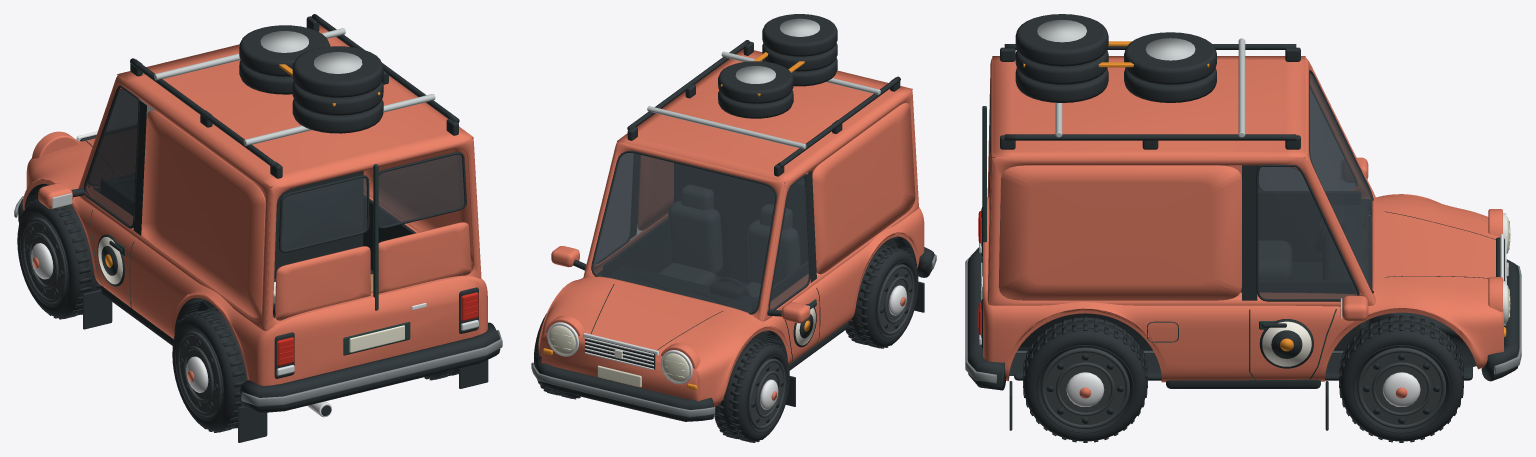
File: pitparts.fbx
The picture shows the model from 3 angles, left to right: view 1: azimuth 30°, elevation 25°; view 2: azimuth 150°, elevation 25°; view 3: azimuth 270°, elevation 25°; orthographic projection. The views are drawn at different scales.
Visible parts, largest first — view 1: Body, Wheel_FL_Mesh, Wheel_RL_Mesh; view 2: Body, Wheel_FL_Mesh, Wheel_RL_Mesh; view 3: Body, Wheel_FR_Mesh, Wheel_RR_Mesh.
Boxes of the visible parts, left/top/right/bottom form: Body: left=14, top=14, right=502, bottom=442; Wheel_FL_Mesh: left=17, top=199, right=101, bottom=319; Wheel_RL_Mesh: left=172, top=307, right=247, bottom=432; Body: left=531, top=14, right=936, bottom=421; Wheel_FL_Mesh: left=714, top=338, right=789, bottom=442; Wheel_RL_Mesh: left=845, top=244, right=918, bottom=348; Body: left=965, top=14, right=1521, bottom=430; Wheel_FR_Mesh: left=1339, top=315, right=1463, bottom=442; Wheel_RR_Mesh: left=1023, top=316, right=1147, bottom=442.
Bounding box in the file's own units: 231 × 250 × 359.
